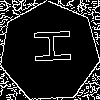H: (24, 27, 71, 66)
